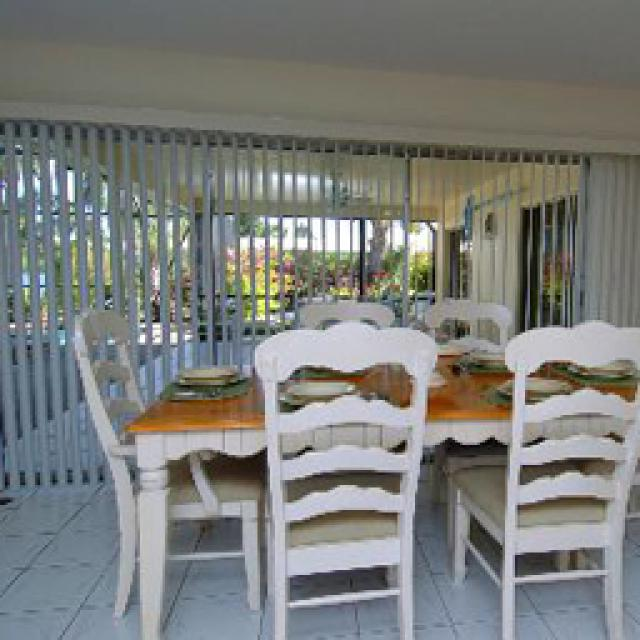2001: (0, 118, 632, 482)
chair: (422, 298, 510, 350), (290, 298, 390, 325)
chair -occluded-: (448, 318, 638, 635), (70, 308, 260, 618), (250, 328, 432, 638)
place mat: (158, 375, 248, 398)
plate food: (492, 372, 575, 400), (568, 355, 632, 378), (285, 378, 352, 398), (455, 348, 510, 372), (178, 365, 235, 382)
table -X: (122, 355, 635, 632)
